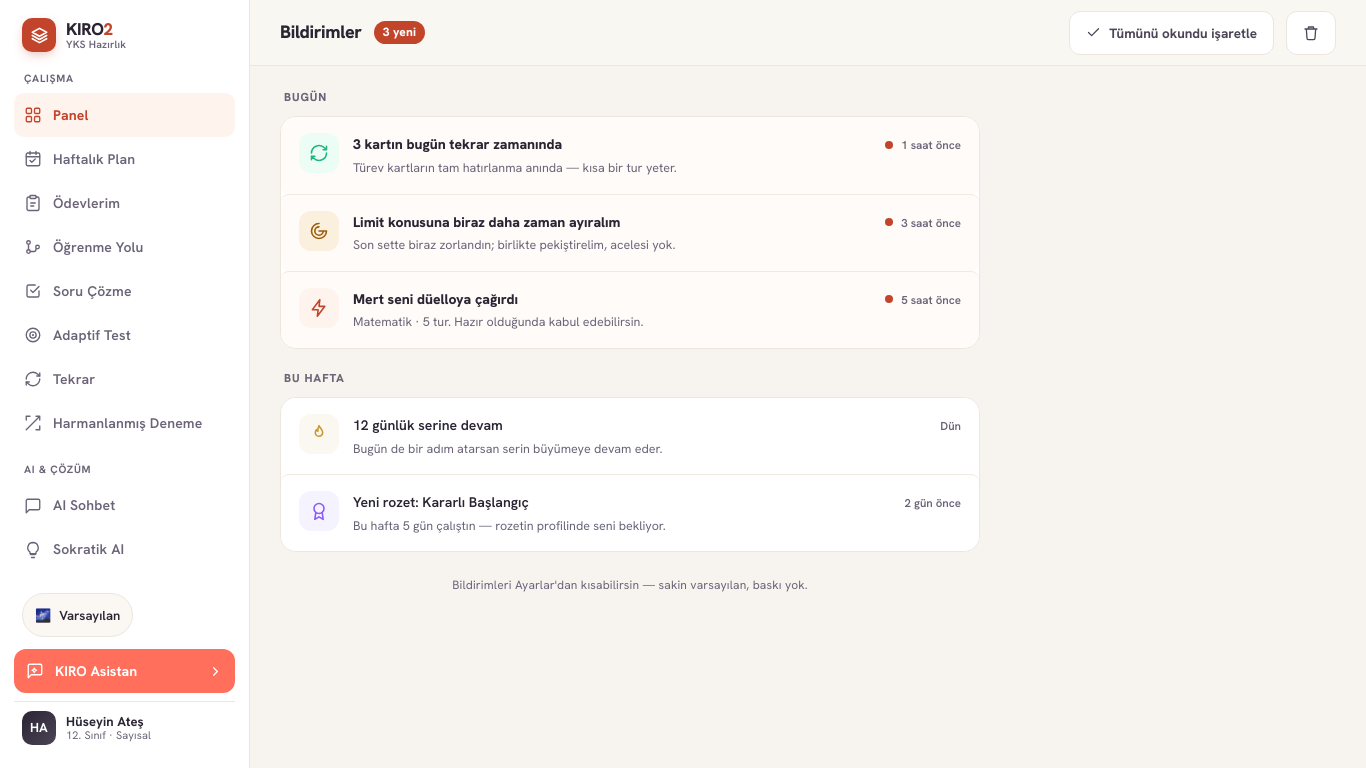
Test: BildirimMerkeziPage › "Tümünü okundu işaretle" pili gizler (okunmamış 0)
Check: the text "3 kartın bugün tekrar zamanında" is shown, box [353,135,562,153]
Click the button "Tümünü okundu işaretle" at (1172, 32), box [1069,10,1274,54]
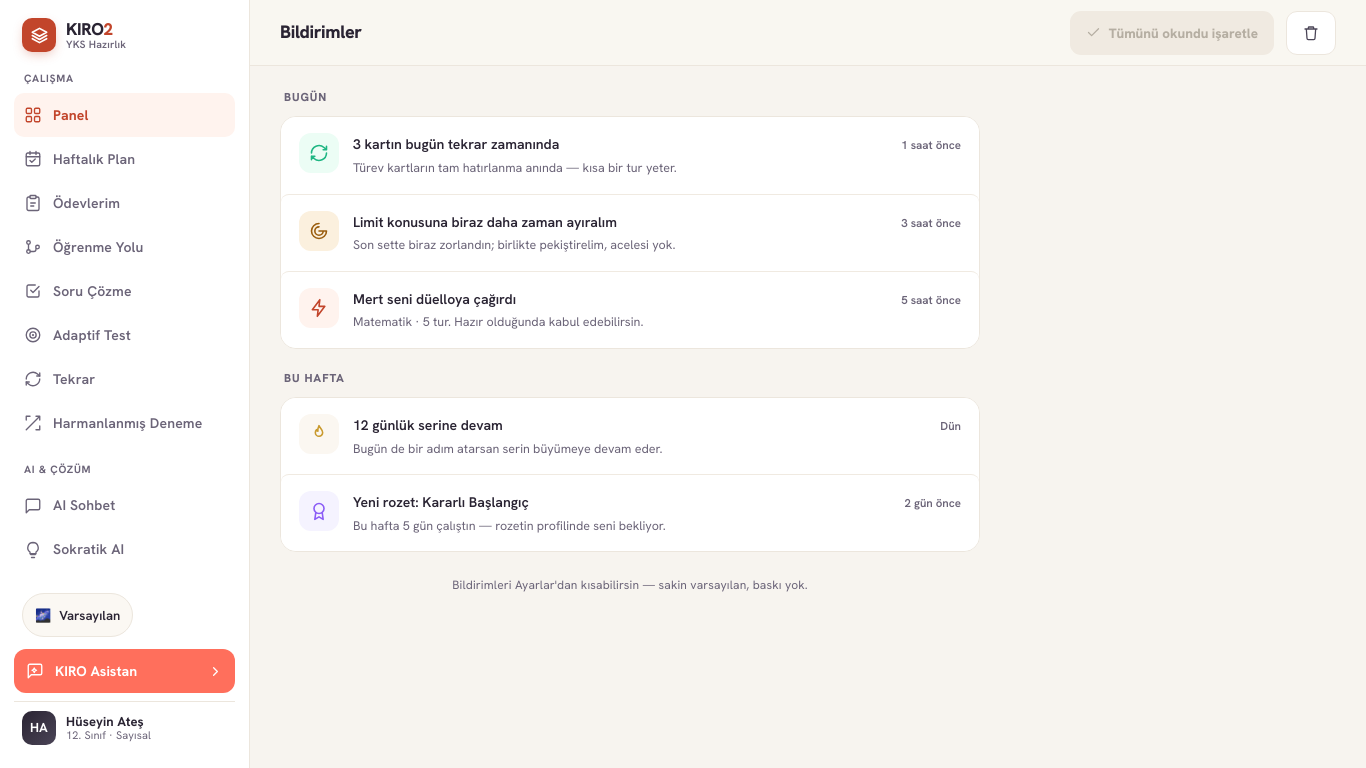
Check: the text "3 kartın bugün tekrar zamanında" is shown, box [353,135,559,153]
Check: the text "3 yeni" is gone
